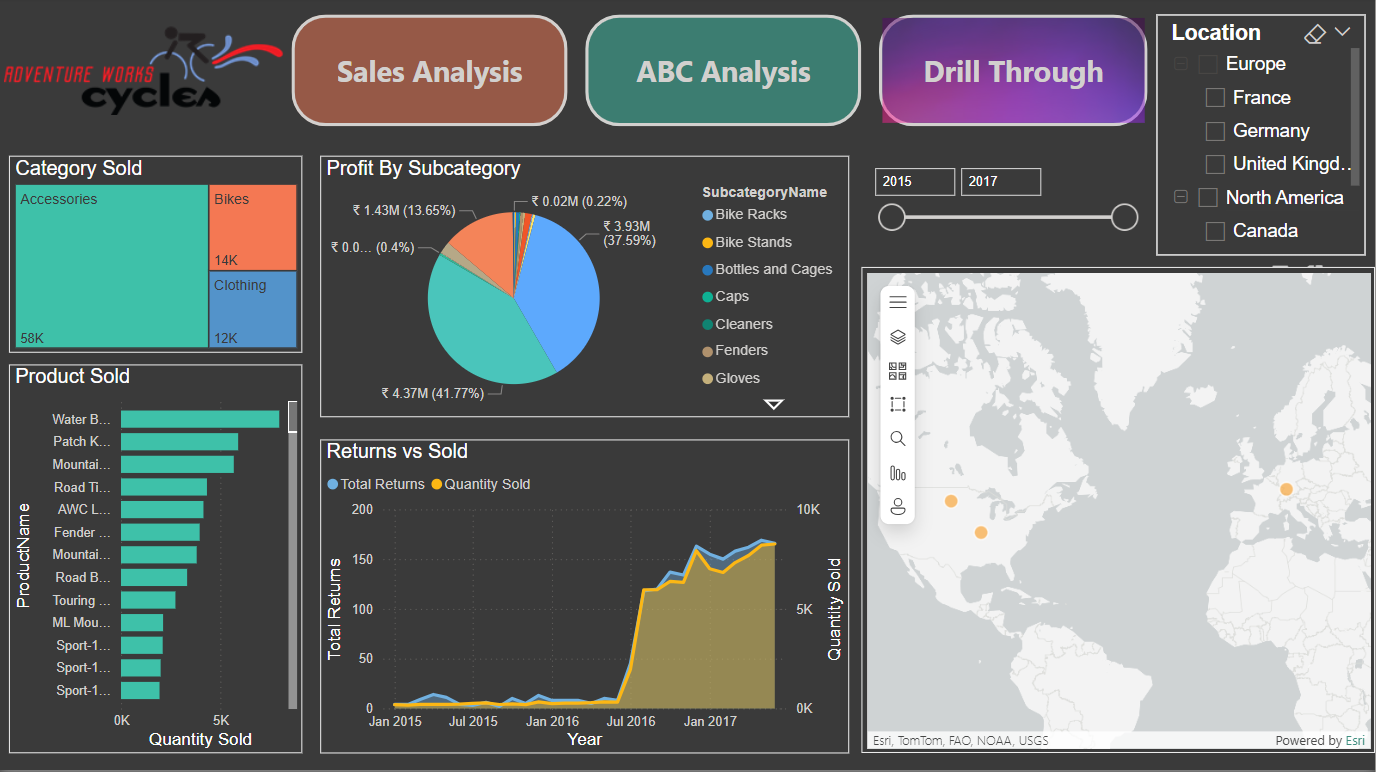

The dashboard page shown, as its layout file describes it:
{"tool":"powerbi","page":{"name":"Overview","canvas":[1280,720],"ordinal":0},"visuals":[{"type":"image","box":[0,8.3,272.5,120.2],"z":0},{"type":"actionButton","box":[272.4,16.3,257.1,104.1],"z":1000},{"type":"actionButton","box":[545.9,16.3,257.1,104.1],"z":2000},{"type":"actionButton","box":[818.4,16.3,250,104.1],"z":3000},{"type":"slicer","fields":{"Values":["AW_Territories_Lookup.Continent","AW_Territories_Lookup.Country"]},"box":[1077.2,16.7,194.2,224.4],"z":4000},{"type":"esriVisual","fields":{"Location":["AW_Territories_Lookup.Continent"]},"box":[802.3,251.2,477.9,452.3],"z":5000},{"type":"slicer","fields":{"Values":["AW_Calendar_Lookup.Date.Variation.Date Hierarchy.Year"]},"box":[802.5,148.4,266,93.1],"z":6000},{"type":"treemap","title":"Category Sold","fields":{"Group":["AW_Product_Categories_Lookup.CategoryName"],"Values":["AW_Sales.Quantity Sold"]},"box":[9.3,148.1,272.5,183.4],"z":7000},{"type":"barChart","title":"Product Sold","fields":{"Category":["AW_Product_Lookup.ProductName"],"Y":["AW_Sales.Quantity Sold"]},"box":[9.3,341.9,272.5,361.6],"z":8000},{"type":"pieChart","title":"Profit By Subcategory ","fields":{"Y":["AW_Sales.Total Profit"],"Series":["AW_Product_Subcategories_Lookup.SubcategoryName"]},"box":[298.8,147.7,491.9,243],"z":9000},{"type":"areaChart","title":"Returns vs Sold","fields":{"Y":["AW_Returns.Total Returns"],"Category":["AW_Calendar_Lookup.Date.Variation.Date Hierarchy.Year","AW_Calendar_Lookup.Date.Variation.Date Hierarchy.Month"],"Y2":["AW_Sales.Quantity Sold"]},"box":[298.8,411.6,491.9,291.9],"z":10000}]}

Visuals, with their boxes in screenshot pixels (x1, y1, x2, y2), scaled from the page's 1280x720 canvas onto the 1376x772 screenshot:
image: (0, 9, 293, 138)
actionButton: (293, 17, 569, 129)
actionButton: (587, 17, 863, 129)
actionButton: (880, 17, 1149, 129)
slicer - AW_Territories_Lookup.Continent x AW_Territories_Lookup.Country: (1158, 18, 1367, 259)
esriVisual - AW_Territories_Lookup.Continent: (862, 269, 1375, 754)
slicer - AW_Calendar_Lookup.Date.Variation.Date Hierarchy.Year: (863, 159, 1149, 259)
"Category Sold" treemap: (10, 159, 303, 355)
"Product Sold" barChart: (10, 367, 303, 754)
"Profit By Subcategory " pieChart: (321, 158, 850, 419)
"Returns vs Sold" areaChart: (321, 441, 850, 754)
